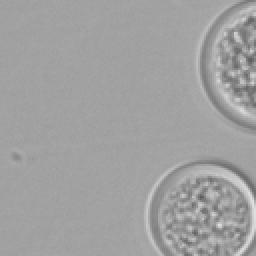picoshell: (144, 160, 256, 256)
